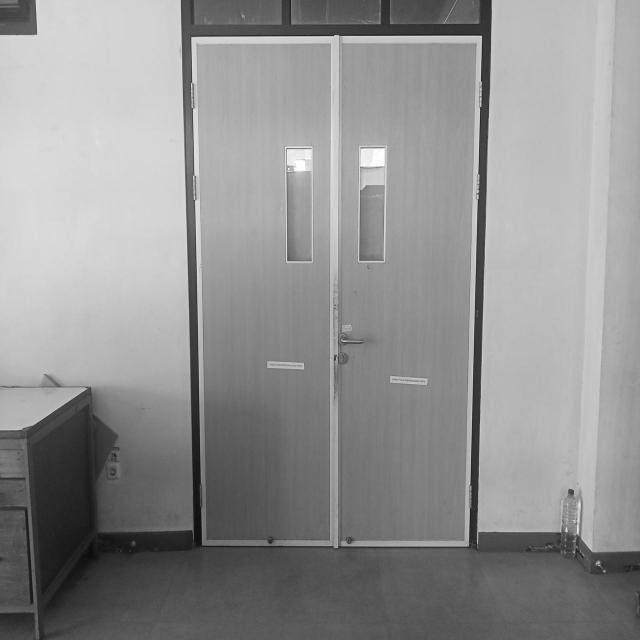door: (190, 34, 486, 554)
